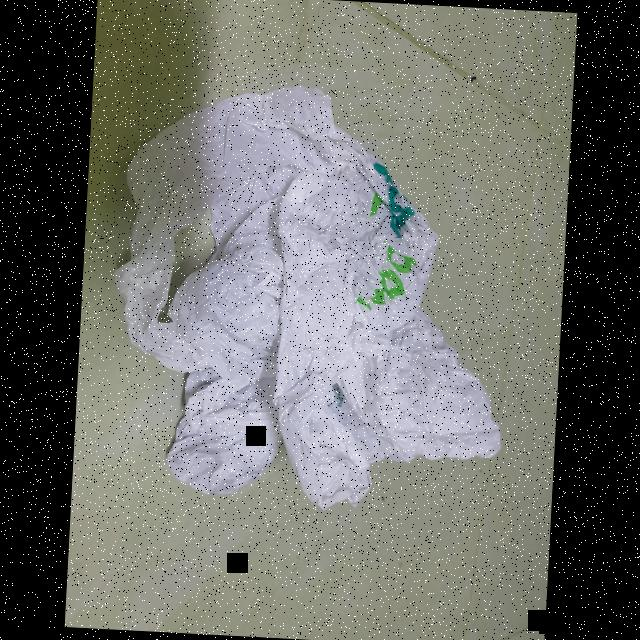plastic_bag: (92, 64, 524, 534)
